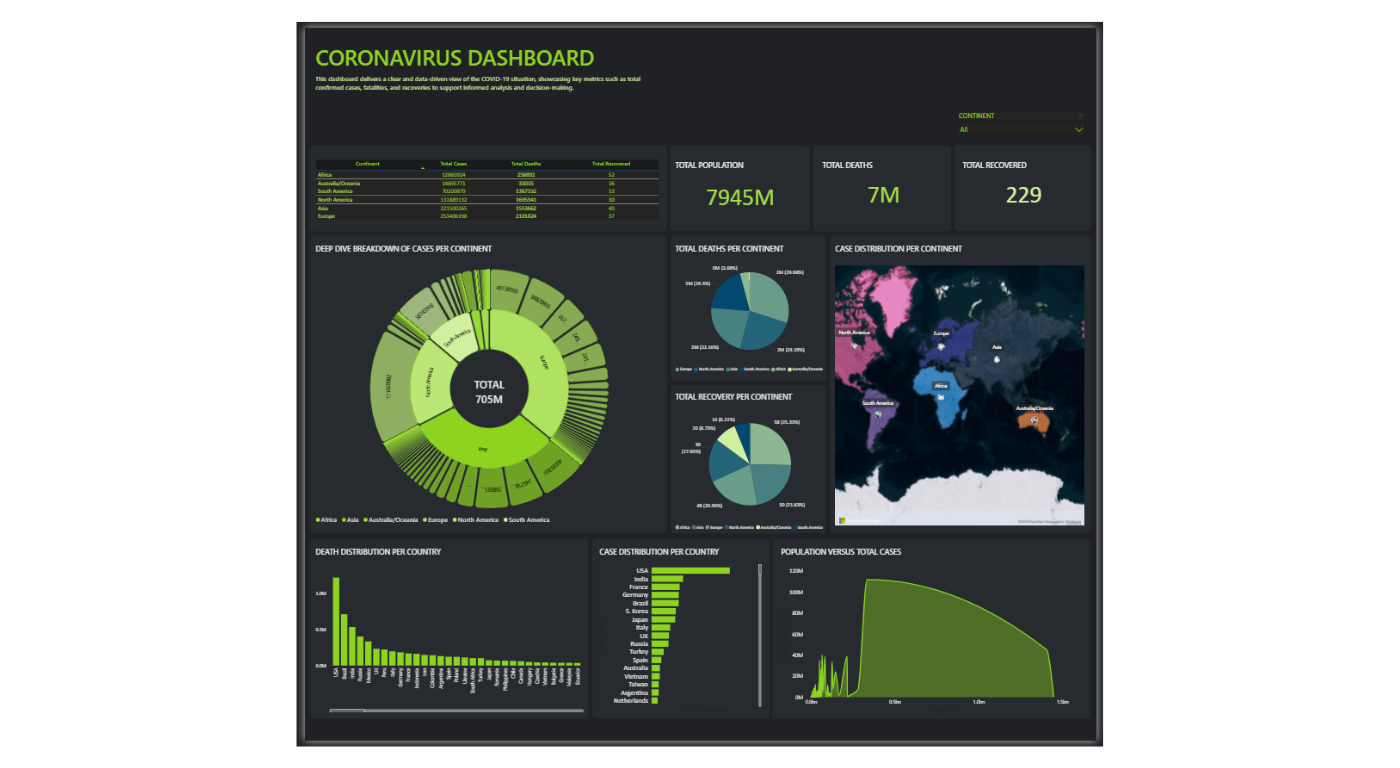

What the dashboard file says about the page in this screenshot:
{"tool":"powerbi","page":{"name":"Coronavirus Dashboard","canvas":[2000,1800],"ordinal":0},"visuals":[{"type":"SunburstDD4B4E19938B4CDD9D3EFC2221D4DCF7","fields":{"parentcategory":["WebScraping - COVID.Continent"],"category":["WebScraping - COVID.TotalCases"],"measure":["Sum(WebScraping - COVID.TotalCases)"]},"box":[21.7,595,893.3,666.7],"z":0},{"type":"pieChart","fields":{"Category":["WebScraping - COVID.Continent"],"Y":["Sum(WebScraping - COVID.TotalDeaths)"]},"box":[930,576.7,388.3,305],"z":1000},{"type":"pieChart","fields":{"Category":["WebScraping - COVID.Continent"],"Y":["CountNonNull(WebScraping - COVID.TotalRecovered)"]},"box":[930,951.7,388.3,326.7],"z":2000},{"type":"azureMap","fields":{"Category":["WebScraping - COVID.Continent"],"Series":["WebScraping - COVID.TotalCases"]},"box":[1335,595,640,665],"z":3000},{"type":"columnChart","fields":{"Category":["WebScraping - COVID.Country,Other"],"Y":["Sum(WebScraping - COVID.TotalDeaths)"]},"box":[22,1342,688,392],"z":4000},{"type":"barChart","fields":{"Category":["WebScraping - COVID.Country,Other","WebScraping - COVID.Continent"],"Y":["Sum(WebScraping - COVID.TotalCases)"]},"box":[738,1342,422,392],"z":5000},{"type":"areaChart","fields":{"Category":["WebScraping - COVID.Population"],"Y":["Sum(WebScraping - COVID.TotalCases)"]},"box":[1198.3,1356.7,778.3,376.7],"z":6000},{"type":"textbox","box":[22,32,894,98],"z":7000},{"type":"textbox","box":[22,114,894,72],"z":8000},{"type":"tableEx","fields":{"Values":["WebScraping - COVID.Continent","Sum(WebScraping - COVID.TotalCases)","Sum(WebScraping - COVID.TotalDeaths)","WebScraping - COVID.TotalRecovered"]},"box":[21.7,328.3,878.3,175],"z":9000},{"type":"card","fields":{"Values":["CountNonNull(WebScraping - COVID.TotalRecovered)"]},"box":[1656,342,320,150],"z":10000},{"type":"card","fields":{"Values":["Sum(WebScraping - COVID.TotalDeaths)"]},"box":[1302,342,320,150],"z":11000},{"type":"card","fields":{"Values":["Sum(WebScraping - COVID.Population)"]},"box":[930,348,338,150],"z":12000},{"type":"textbox","box":[930,328,206,38],"z":13000},{"type":"textbox","box":[1302,328,206,38],"z":14000},{"type":"textbox","box":[1656,328,206,38],"z":15000},{"type":"textbox","box":[930,538.3,371.7,38.3],"z":16000},{"type":"textbox","box":[930,913.3,371.7,38.3],"z":17000},{"type":"textbox","box":[21.7,538.3,606.7,38.3],"z":18000},{"type":"textbox","box":[1335,538.3,371.7,38.3],"z":19000},{"type":"textbox","box":[21.7,1303.3,371.7,38.3],"z":20000},{"type":"textbox","box":[738.3,1303.3,386.7,38.3],"z":21000},{"type":"textbox","box":[1198.3,1303.3,371.7,38.3],"z":22000},{"type":"slicer","fields":{"Values":["WebScraping - COVID.Continent"]},"box":[1638.3,205,341.7,78.3],"z":23000}]}

Visuals, with their boxes on the page's 2000x1800 design canvas (x1, y1, x2, y2). These are canvas units, not pixel positions in the 1400x768 screenshot, which may show the page scaled, cropped or inside an application window:
SunburstDD4B4E19938B4CDD9D3EFC2221D4DCF7 - WebScraping - COVID.Continent x WebScraping - COVID.TotalCases: [22,595,915,1262]
pieChart - WebScraping - COVID.Continent x Sum(WebScraping - COVID.TotalDeaths): [930,577,1318,882]
pieChart - WebScraping - COVID.Continent x CountNonNull(WebScraping - COVID.TotalRecovered): [930,952,1318,1278]
azureMap - WebScraping - COVID.Continent x WebScraping - COVID.TotalCases: [1335,595,1975,1260]
columnChart - WebScraping - COVID.Country,Other x Sum(WebScraping - COVID.TotalDeaths): [22,1342,710,1734]
barChart - WebScraping - COVID.Country,Other x WebScraping - COVID.Continent: [738,1342,1160,1734]
areaChart - WebScraping - COVID.Population x Sum(WebScraping - COVID.TotalCases): [1198,1357,1977,1733]
textbox: [22,32,916,130]
textbox: [22,114,916,186]
tableEx - WebScraping - COVID.Continent x Sum(WebScraping - COVID.TotalCases): [22,328,900,503]
card - CountNonNull(WebScraping - COVID.TotalRecovered): [1656,342,1976,492]
card - Sum(WebScraping - COVID.TotalDeaths): [1302,342,1622,492]
card - Sum(WebScraping - COVID.Population): [930,348,1268,498]
textbox: [930,328,1136,366]
textbox: [1302,328,1508,366]
textbox: [1656,328,1862,366]
textbox: [930,538,1302,577]
textbox: [930,913,1302,952]
textbox: [22,538,628,577]
textbox: [1335,538,1707,577]
textbox: [22,1303,393,1342]
textbox: [738,1303,1125,1342]
textbox: [1198,1303,1570,1342]
slicer - WebScraping - COVID.Continent: [1638,205,1980,283]
